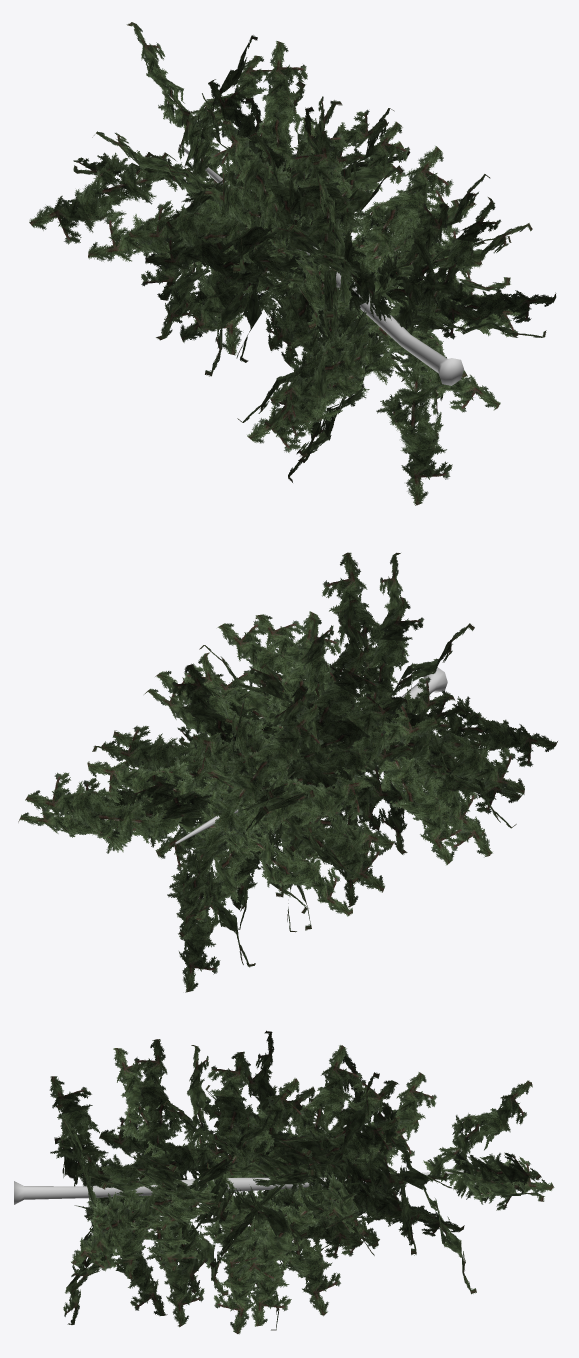
Rendered from PineTree1.fbx.
3 renders of one model, top to bottom at view 1: azimuth 30°, elevation 25°; view 2: azimuth 150°, elevation 25°; view 3: azimuth 270°, elevation 25°, orthographic. The views are drawn at different scales.
Parts seen in each view (by area): view 1: Tree6Simple; view 2: Tree6Simple; view 3: Tree6Simple.
Part boxes in pixels (x1=…): Tree6Simple: x1=29, y1=22, x2=556, y2=505; Tree6Simple: x1=18, y1=552, x2=557, y2=992; Tree6Simple: x1=14, y1=1030, x2=554, y2=1334.
Size of the model in its own units: 108857 by 108250 by 189971.
